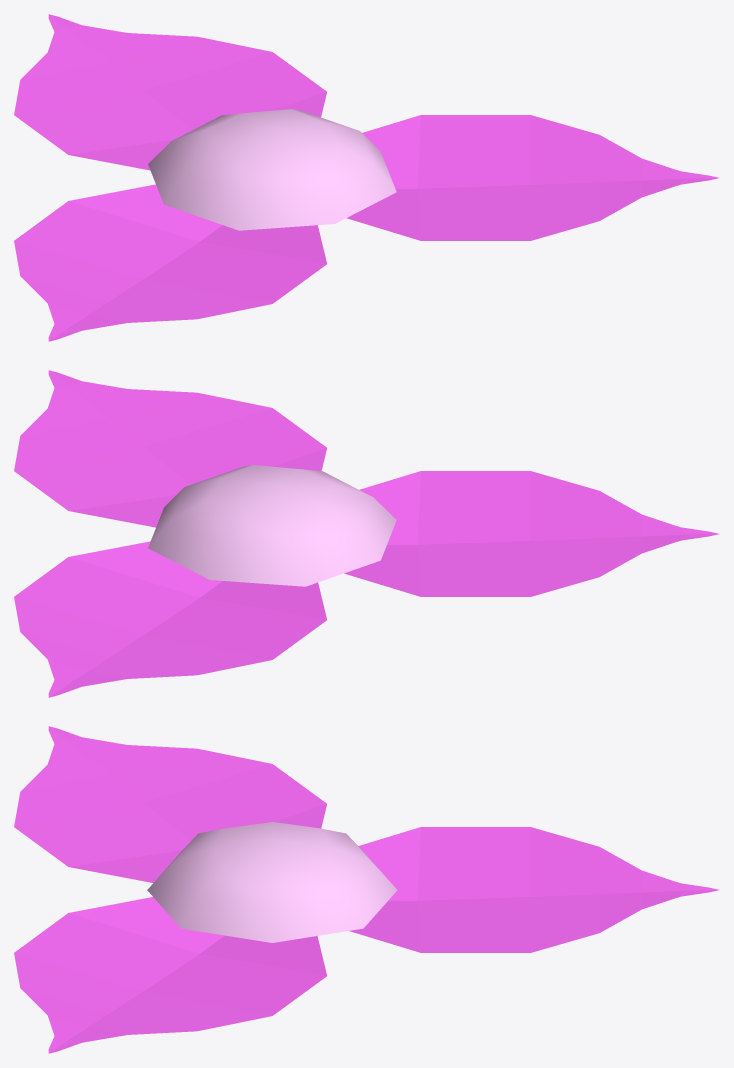
Rendered from Flower_03.fbx.
3 renders of one model, top to bottom at view 1: azimuth 30°, elevation 25°; view 2: azimuth 150°, elevation 25°; view 3: azimuth 270°, elevation 25°, orthographic.
Parts seen in each view (by area): view 1: Flower_03; view 2: Flower_03; view 3: Flower_03.
Part boxes in pixels (x1=…): Flower_03: x1=14, y1=14, x2=718, y2=341; Flower_03: x1=14, y1=370, x2=718, y2=697; Flower_03: x1=14, y1=726, x2=718, y2=1053.
Bounding box in the file's own units: 46.05 × 3.97 × 41.93.
